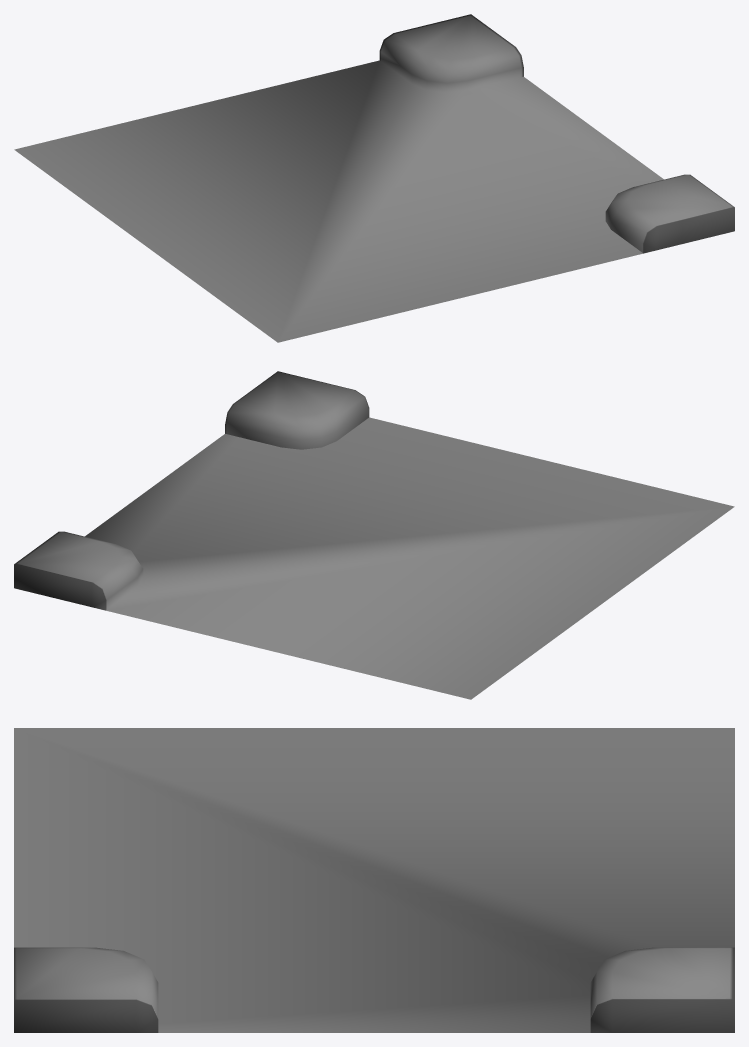
The model's file is PavementOuterCorner2.glb.
3 renders of one model, top to bottom at view 1: azimuth 30°, elevation 25°; view 2: azimuth 150°, elevation 25°; view 3: azimuth 270°, elevation 25°, orthographic. The views are drawn at different scales.
Parts seen in each view (by area): view 1: PavementOuterCorner2; view 2: PavementOuterCorner2; view 3: PavementOuterCorner2.
Boxes of the visible parts, x1,y1,x2,y2 form: PavementOuterCorner2: (14,14,734,342); PavementOuterCorner2: (14,371,734,699); PavementOuterCorner2: (14,728,734,1032).
Bounding box in the file's own units: 2 × 0.1 × 2.
Materials: 1 (1 with a texture image).
